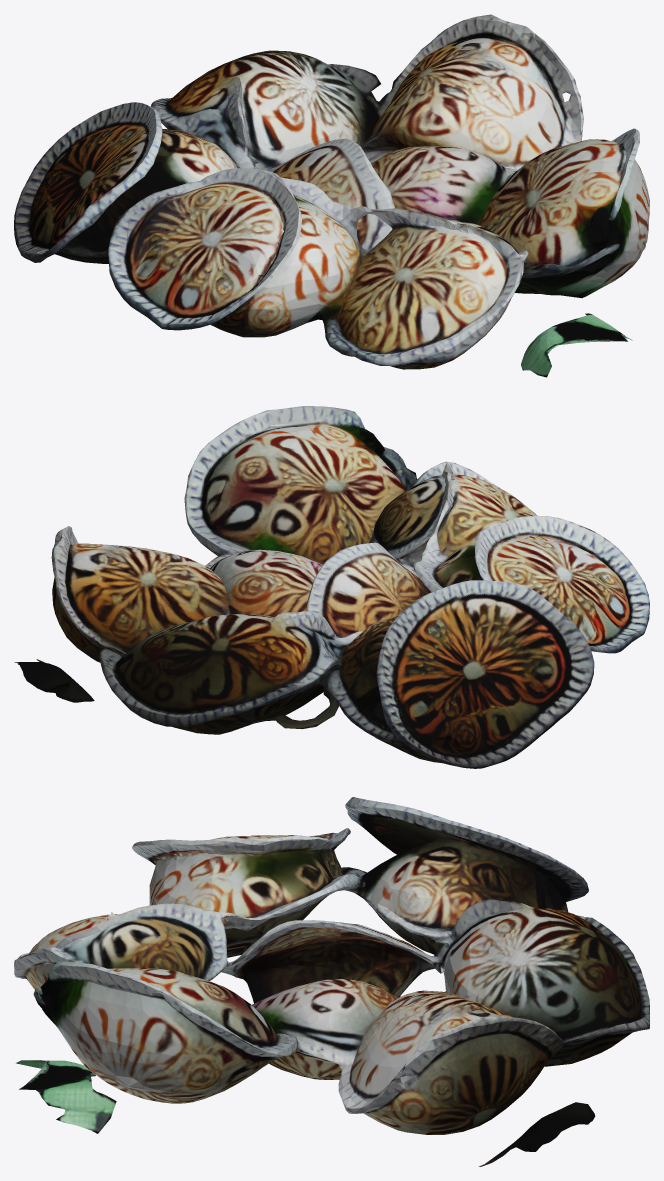
Rendered from organic-cotton-makeup-remover-pads-art-deco.jpeg.glb.
3 renders of one model, top to bottom at view 1: azimuth 30°, elevation 25°; view 2: azimuth 150°, elevation 25°; view 3: azimuth 270°, elevation 25°, orthographic. The views are drawn at different scales.
Parts seen in each view (by area): view 1: world; view 2: world; view 3: world.
Part boxes in pixels (left/top/right/bottom): world: left=14, top=14, right=649, bottom=377; world: left=14, top=406, right=649, bottom=768; world: left=14, top=797, right=649, bottom=1166.
Size of the model in its own units: 0.9948 by 0.3073 by 0.9998.
Materials: 1 (1 with a texture image).
